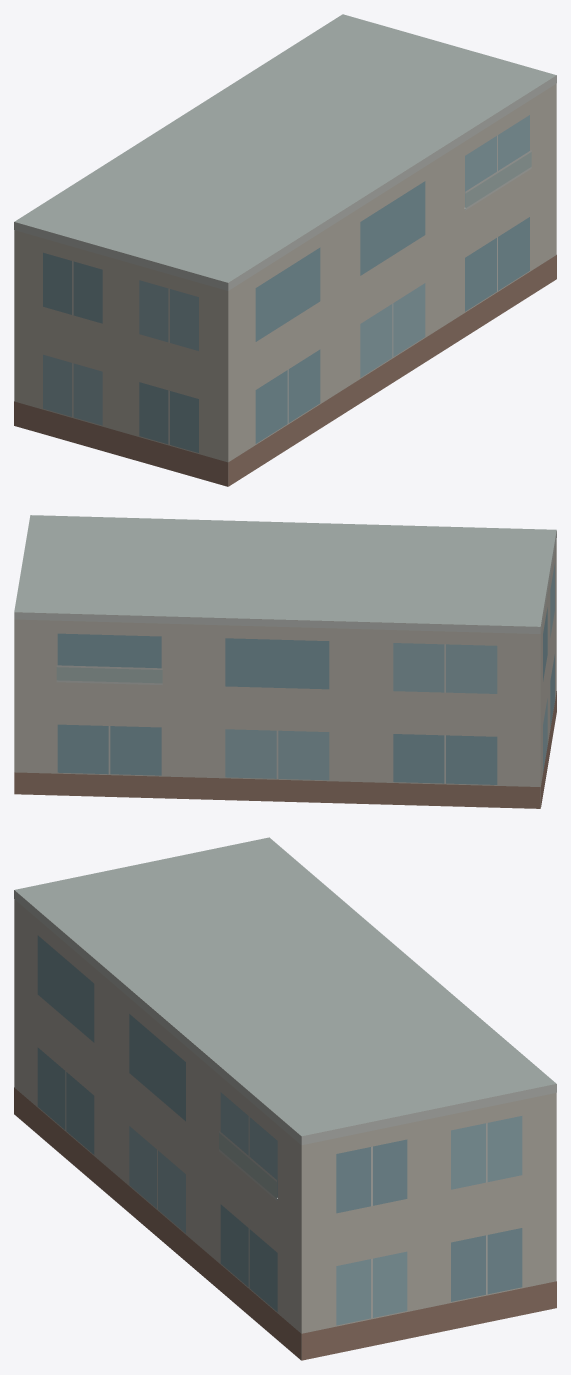
The model's file is survey-upis-32728527.glb.
The picture shows the model from 3 angles, top to bottom: view 1: azimuth 30°, elevation 25°; view 2: azimuth 150°, elevation 25°; view 3: azimuth 270°, elevation 25°; orthographic projection. The views are drawn at different scales.
Parts seen in each view (by area): view 1: survey-upis-32728527.tmp; view 2: survey-upis-32728527.tmp; view 3: survey-upis-32728527.tmp.
Boxes of the visible parts, x1=… form: survey-upis-32728527.tmp: x1=14, y1=14, x2=556, y2=486; survey-upis-32728527.tmp: x1=14, y1=515, x2=556, y2=808; survey-upis-32728527.tmp: x1=14, y1=837, x2=556, y2=1360.
Size of the model in its own units: 17.46 by 6.1 by 13.39.
